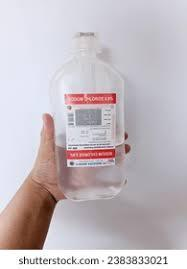Iv_Bottle: (50, 32, 124, 200)
